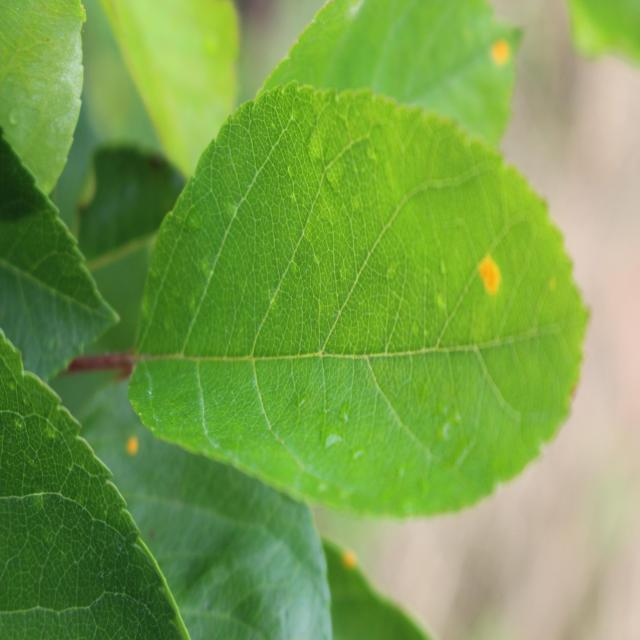Rust: (473, 248, 509, 306), (486, 32, 514, 76), (124, 426, 143, 462)
